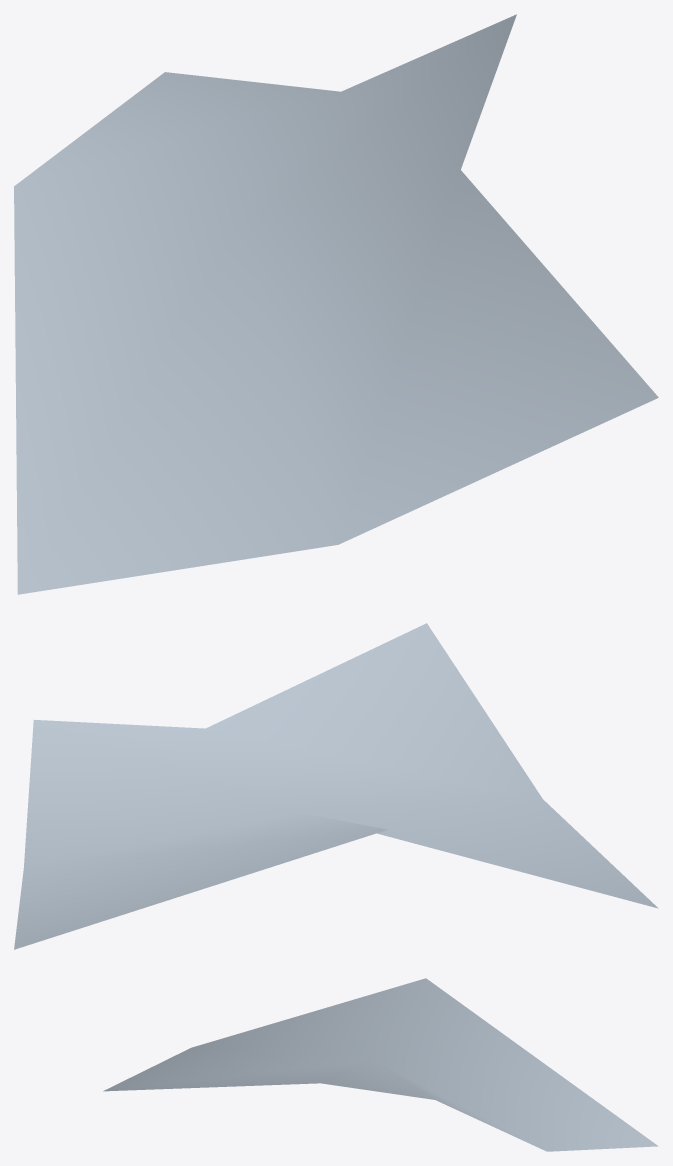
The model's file is plantar-cuneocuboid-ligament-r.glb.
3 views of the same model, one above another, from view 1: azimuth 30°, elevation 25°; view 2: azimuth 150°, elevation 25°; view 3: azimuth 270°, elevation 25° (orthographic). The views are drawn at different scales.
Parts seen in each view (by area): view 1: Plantar cuneocuboid ligament.r; view 2: Plantar cuneocuboid ligament.r; view 3: Plantar cuneocuboid ligament.r.
Part boxes in pixels (<box>): Plantar cuneocuboid ligament.r: <box>14,14,658,594</box>; Plantar cuneocuboid ligament.r: <box>14,623,658,949</box>; Plantar cuneocuboid ligament.r: <box>103,978,658,1151</box>.
Size of the model in its own units: 0.00625 by 0.00216 by 0.0084.
